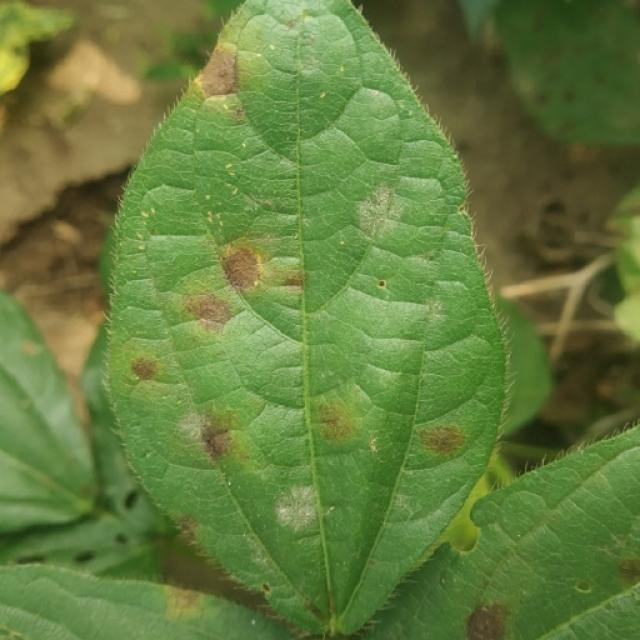Anthracnose: (234, 43, 296, 142), (172, 401, 245, 471), (213, 239, 274, 296), (113, 336, 167, 389), (198, 44, 241, 97), (358, 186, 399, 237), (465, 602, 508, 638), (419, 424, 463, 457), (316, 400, 354, 435), (165, 585, 202, 620), (298, 35, 325, 73), (176, 515, 200, 541), (197, 317, 228, 336), (618, 557, 640, 583), (303, 600, 325, 622), (185, 78, 205, 99), (425, 298, 444, 319), (19, 339, 42, 356), (78, 483, 94, 501), (575, 581, 593, 594), (561, 89, 577, 103), (285, 18, 299, 29), (376, 279, 387, 289), (261, 583, 270, 593), (457, 203, 466, 212), (302, 13, 311, 22)
Blackgram: (105, 0, 508, 632)
